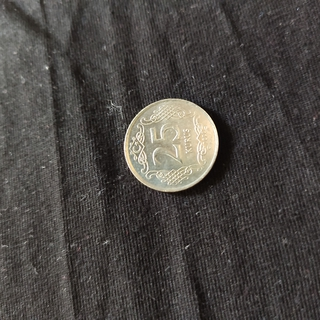25KURUS: (121, 96, 220, 194)
